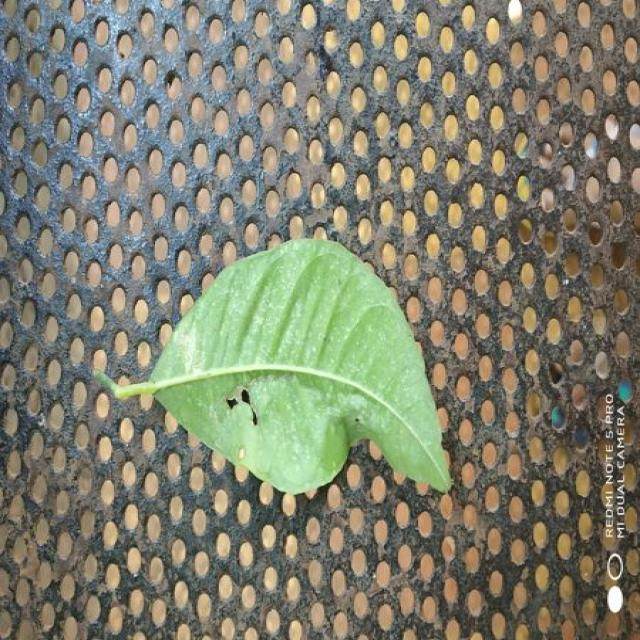Citrus bacterial spot: (97, 239, 450, 493)
